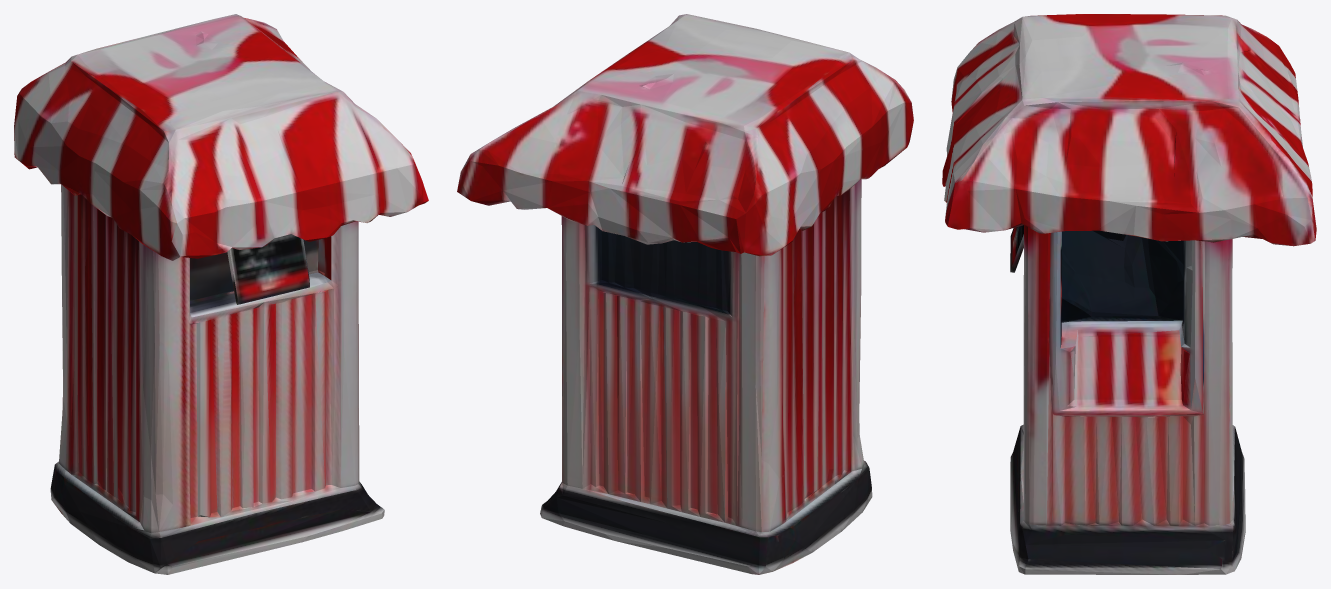
Rendered from ticket_booth.glb.
3 views of the same model, side by side, from view 1: azimuth 30°, elevation 25°; view 2: azimuth 150°, elevation 25°; view 3: azimuth 270°, elevation 25° (orthographic). The views are drawn at different scales.
Visible parts, largest first — view 1: textured_mesh.obj; view 2: textured_mesh.obj; view 3: textured_mesh.obj.
Part boxes in pixels (x1,y1,x2,y2): textured_mesh.obj: [14, 14, 428, 574]; textured_mesh.obj: [457, 14, 913, 574]; textured_mesh.obj: [942, 14, 1316, 574].
Size of the model in its own units: 1.83 by 2.6 by 1.93.
1 material, 1 textured.
